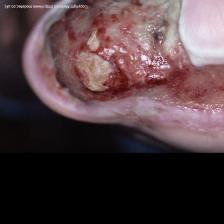Wound: (19, 0, 224, 129)
